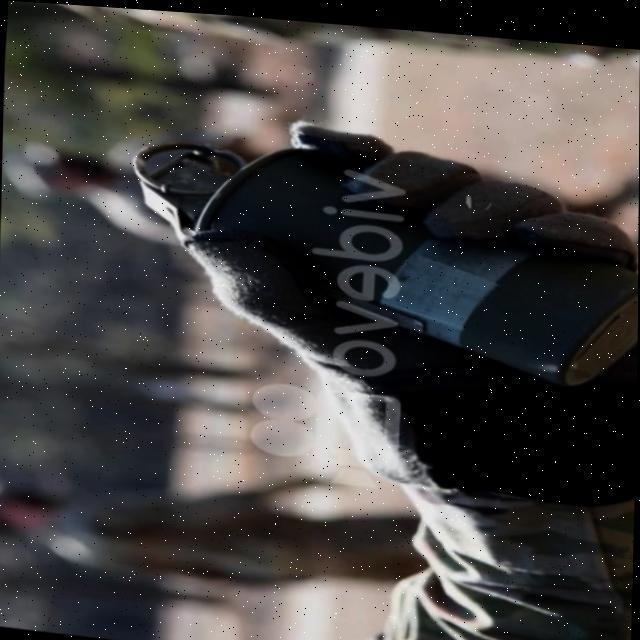grenade: (118, 105, 639, 384)
